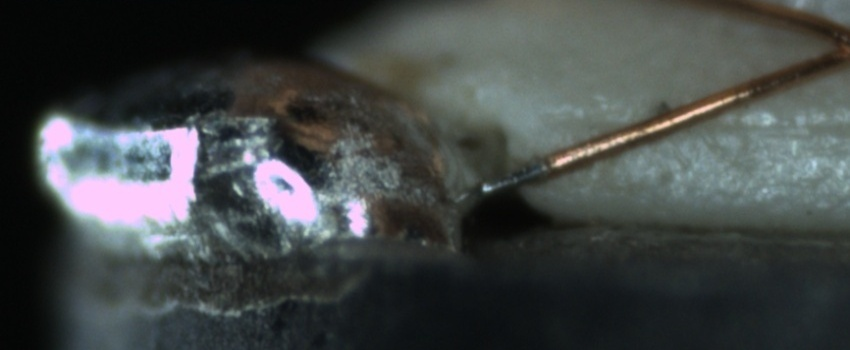DL: (549, 95, 850, 154)
TS: (477, 161, 545, 195)
TTCW: (483, 133, 595, 195)
